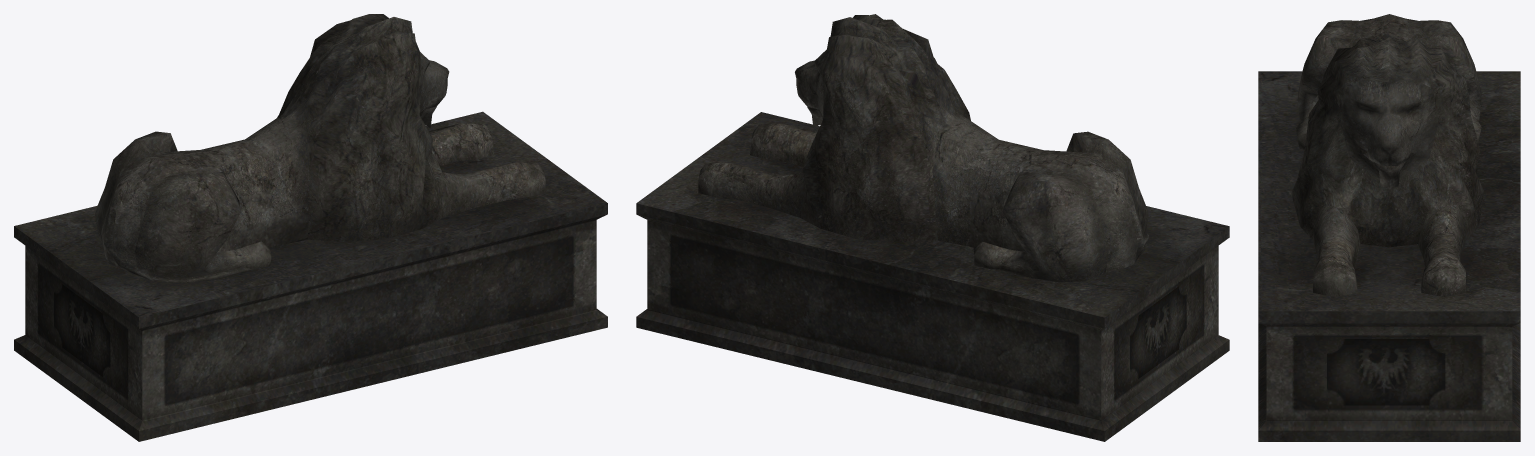
Rendered from lion.dae.
3 views of the same model, side by side, from view 1: azimuth 30°, elevation 25°; view 2: azimuth 150°, elevation 25°; view 3: azimuth 270°, elevation 25° (orthographic). The views are drawn at different scales.
Visible parts, largest first — view 1: polySurface1; view 2: polySurface1; view 3: polySurface1.
Boxes of the visible parts, <box> form: polySurface1: <box>14,14,607,441</box>; polySurface1: <box>636,14,1229,441</box>; polySurface1: <box>1258,14,1520,441</box>.
Bounding box in the file's own units: 6.5 × 4 × 3.
